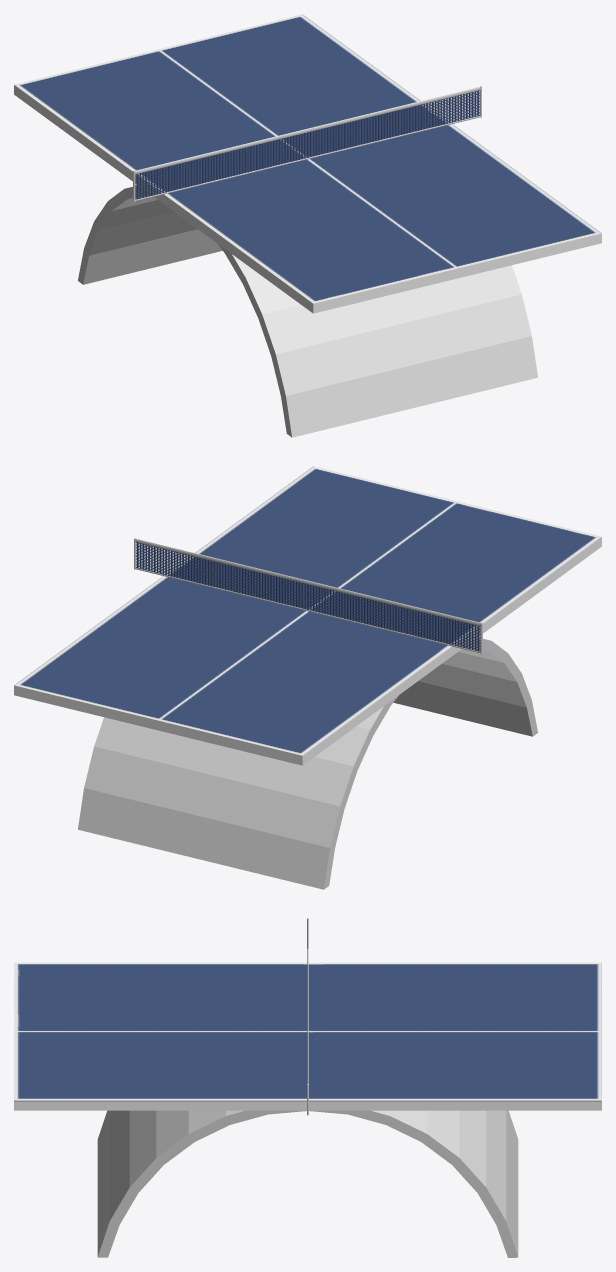
Rendered from LondonTable.fbx.
3 renders of one model, top to bottom at view 1: azimuth 30°, elevation 25°; view 2: azimuth 150°, elevation 25°; view 3: azimuth 270°, elevation 25°, orthographic.
Visible parts, largest first — view 1: TableMian, TableTui, TableWang, TableShangXiaBianKuang; view 2: TableMian, TableTui, TableWang, TableShangXiaBianKuang; view 3: TableMian, TableTui.
Boxes of the visible parts, bbox=[...] form: TableMian: bbox=[14, 14, 601, 313]; TableTui: bbox=[78, 186, 537, 437]; TableWang: bbox=[135, 90, 480, 199]; TableShangXiaBianKuang: bbox=[135, 86, 480, 201]; TableMian: bbox=[14, 466, 601, 765]; TableTui: bbox=[78, 638, 537, 889]; TableWang: bbox=[135, 542, 480, 651]; TableShangXiaBianKuang: bbox=[135, 538, 480, 653]; TableMian: bbox=[14, 962, 601, 1110]; TableTui: bbox=[97, 1110, 518, 1257].
Bounding box in the file's own units: 184 × 101 × 274.
